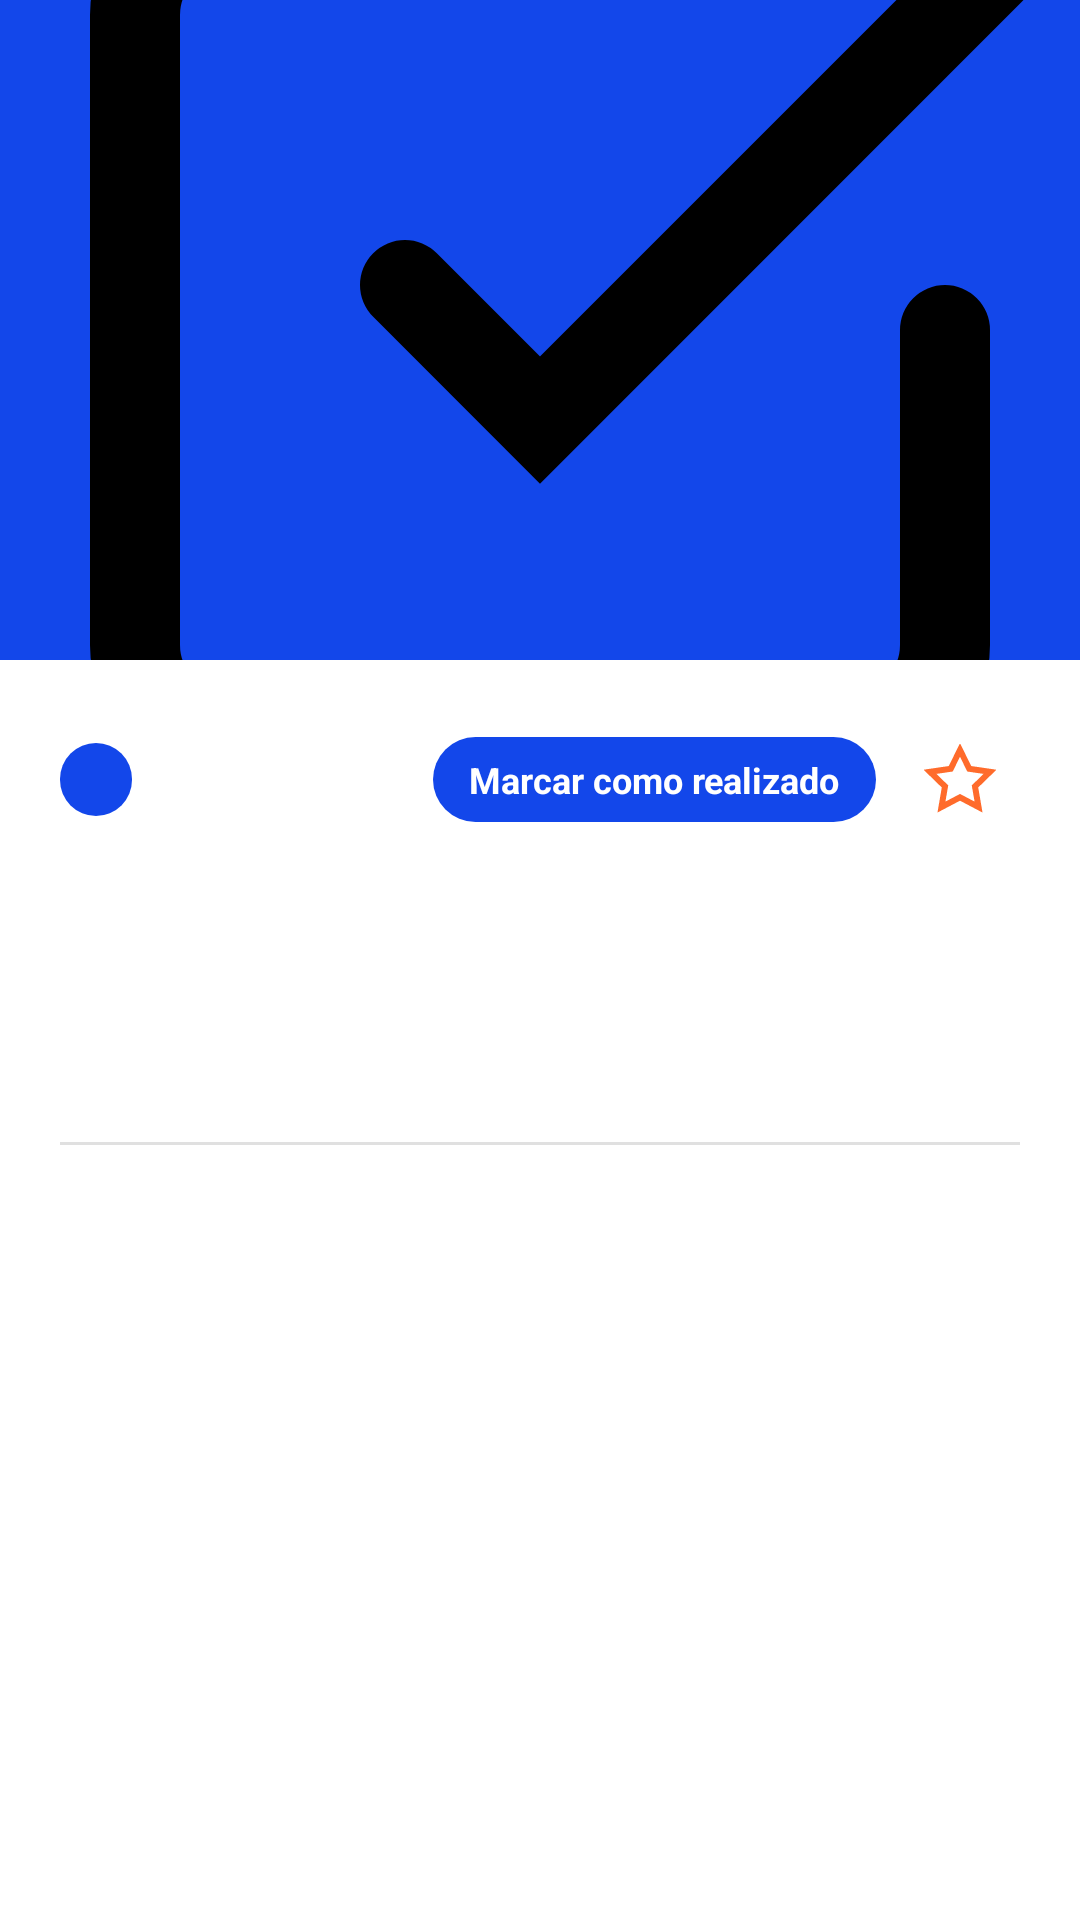

Named icons in this screenshot (1080px×1920px) and their centers, [x,y]:
estrella vacia: [960,778]
